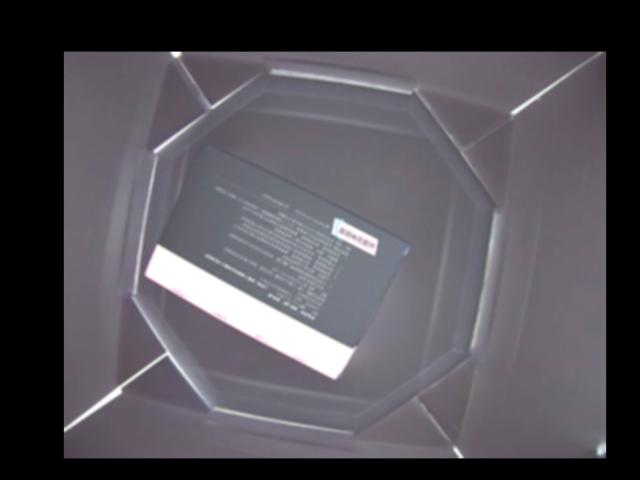Medicine: (143, 143, 407, 378)
